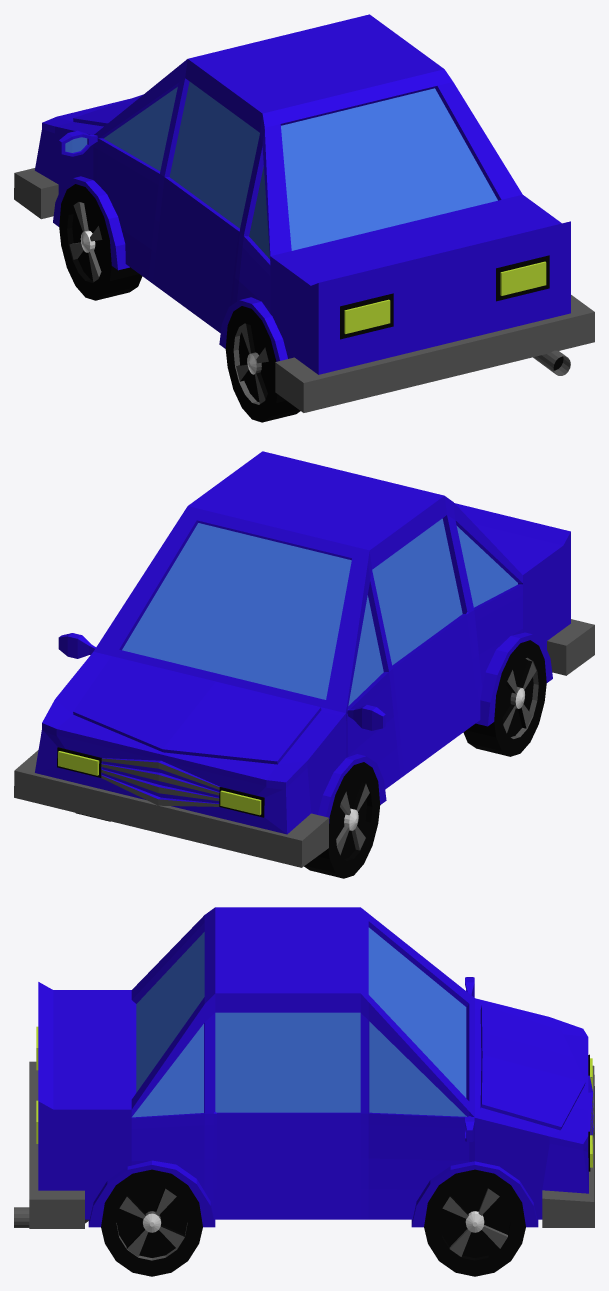
The model's file is carBlue.glb.
The picture shows the model from 3 angles, top to bottom: view 1: azimuth 30°, elevation 25°; view 2: azimuth 150°, elevation 25°; view 3: azimuth 270°, elevation 25°; orthographic projection. The views are drawn at different scales.
Parts seen in each view (by area): view 1: Car2; view 2: Car2; view 3: Car2.
Boxes of the visible parts, bbox=[...] form: Car2: bbox=[14, 14, 594, 422]; Car2: bbox=[14, 451, 594, 878]; Car2: bbox=[14, 907, 594, 1276].
Bounding box in the file's own units: 10 × 8 × 16.
